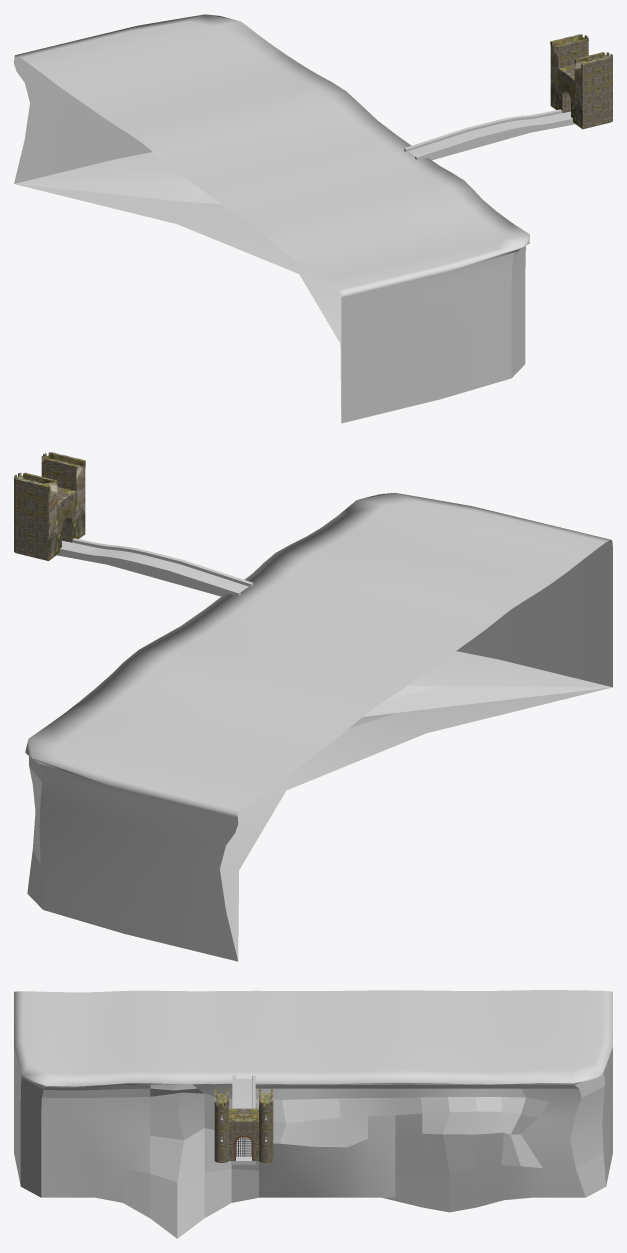
Rendered from FullSalidaMapa.fbx.
3 views of the same model, one above another, from view 1: azimuth 30°, elevation 25°; view 2: azimuth 150°, elevation 25°; view 3: azimuth 270°, elevation 25° (orthographic). The views are drawn at different scales.
Visible parts, largest first — view 1: Box007, Puerta_Muralla, Box004; view 2: Box007, Puerta_Muralla, Box004; view 3: Box007, Puerta_Muralla, Box004.
Part boxes in pixels (x1=…): Box007: x1=14, y1=14, x2=529, y2=423; Puerta_Muralla: x1=550, y1=34, x2=612, y2=129; Box004: x1=404, y1=109, x2=575, y2=160; Box007: x1=25, y1=493, x2=612, y2=961; Puerta_Muralla: x1=14, y1=452, x2=85, y2=560; Box004: x1=57, y1=538, x2=253, y2=596; Box007: x1=14, y1=990, x2=612, y2=1238; Puerta_Muralla: x1=214, y1=1089, x2=273, y2=1162; Box004: x1=232, y1=1075, x2=255, y2=1164.
Size of the model in its own units: 13098 by 19327 by 7242.
